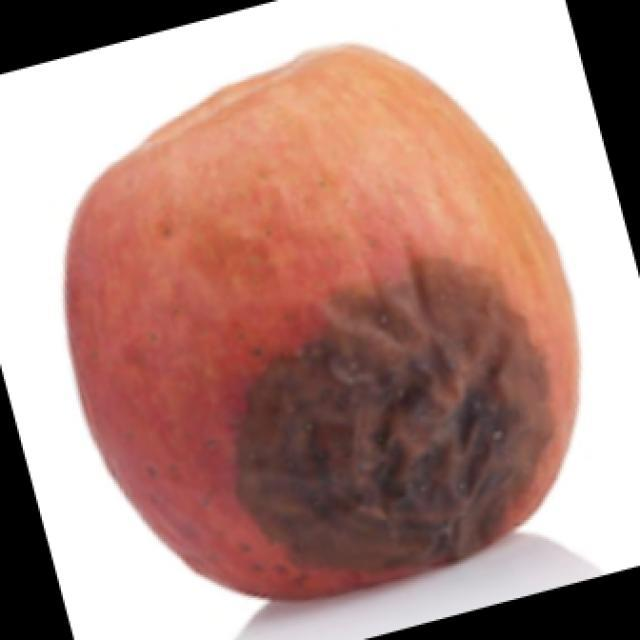Rotten: (52, 42, 578, 605)
